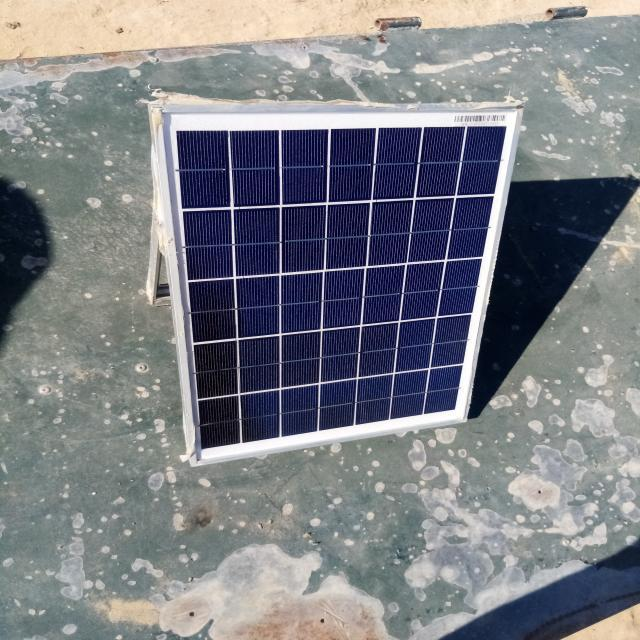no faulty: (158, 103, 521, 466)
